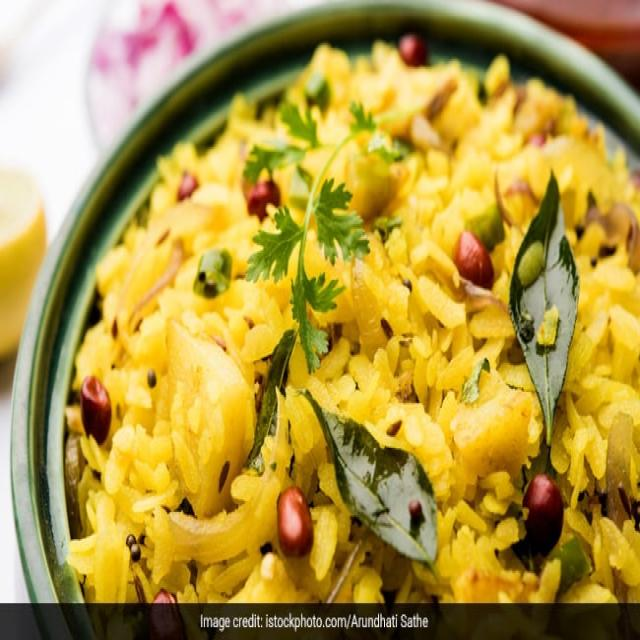POHA: (58, 37, 636, 602)
